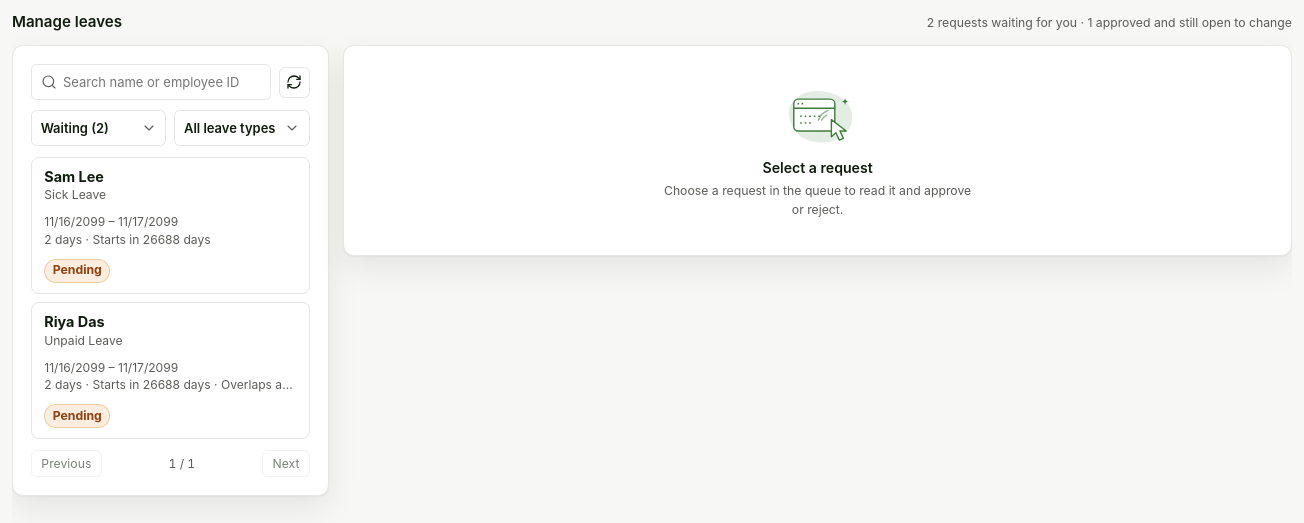
Test: LeaveApprovalWorkspace › shows the balance as no limit for unpaid leave and warns about an overlap
Click the text "Sam Lee" at (74, 176), box x1=44 y1=168 x2=104 y2=185
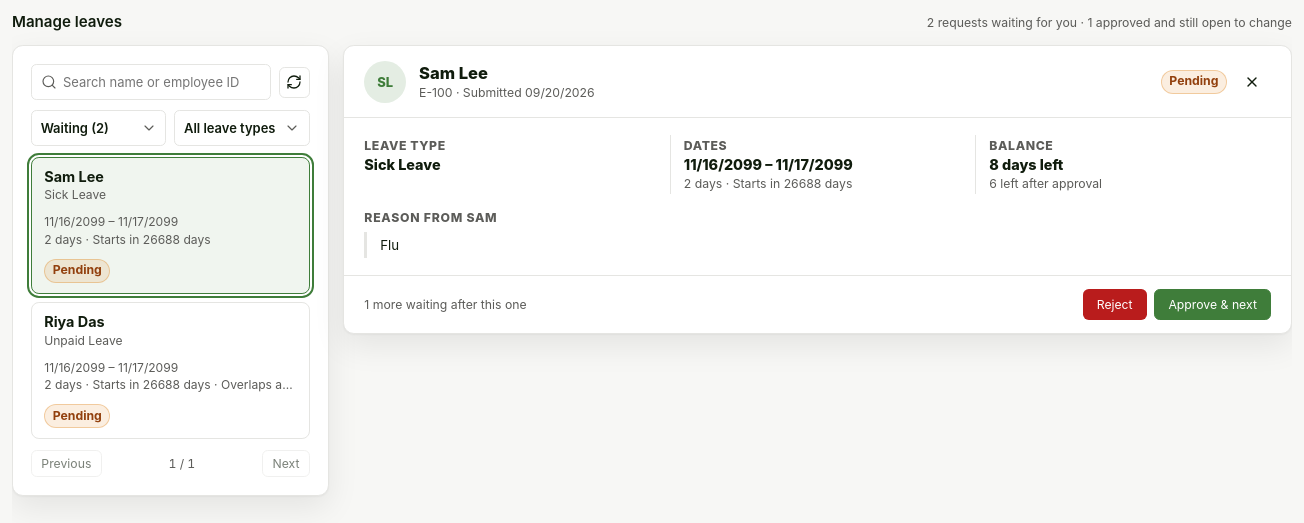
Click the text "Riya Das" at (74, 322), box x1=44 y1=313 x2=105 y2=330
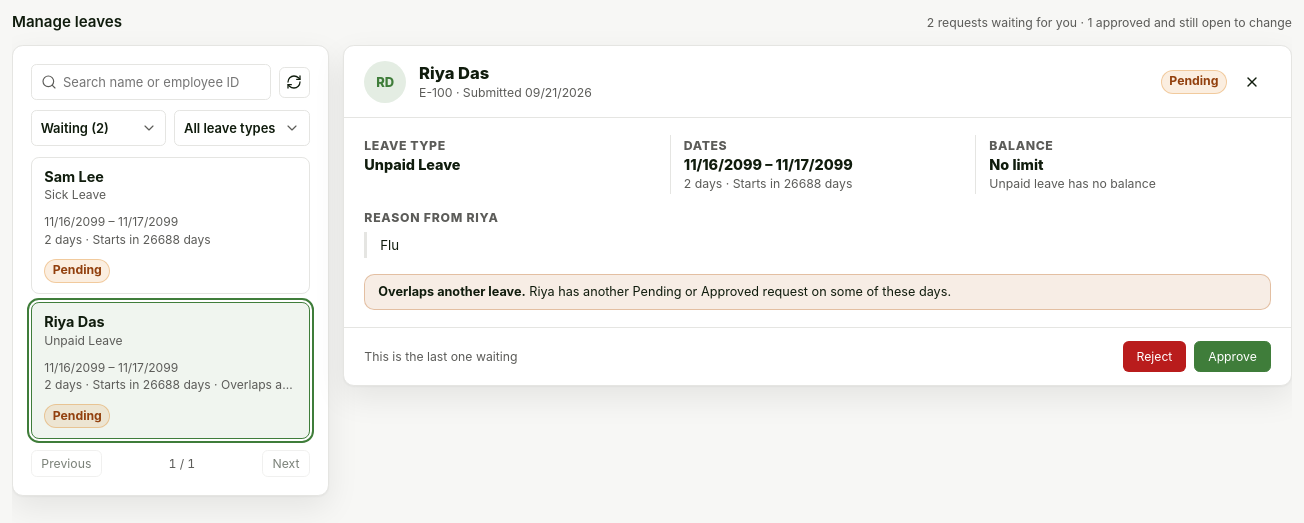
Check: the text "No limit" is shown, box x1=989 y1=156 x2=1043 y2=173
Check: the text "has another Pending or Approved" is shown, box x1=555 y1=284 x2=951 y2=299
